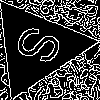S: (12, 22, 74, 72)
